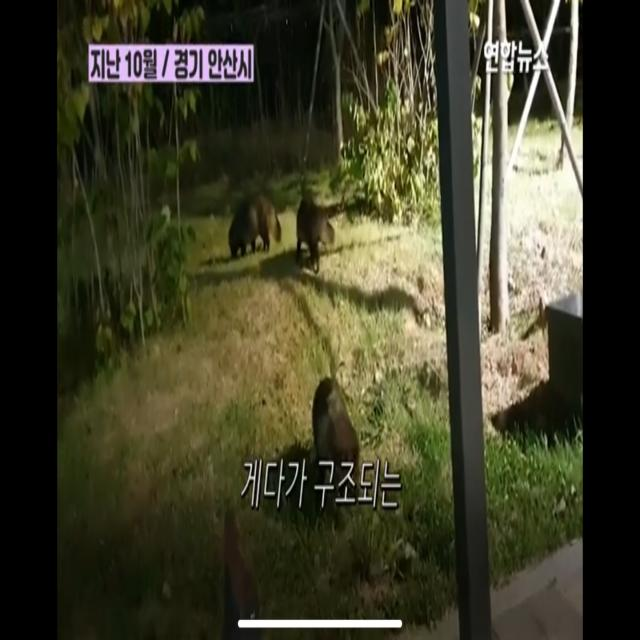racoon: (310, 358, 361, 473), (227, 176, 280, 260), (295, 174, 336, 282)
